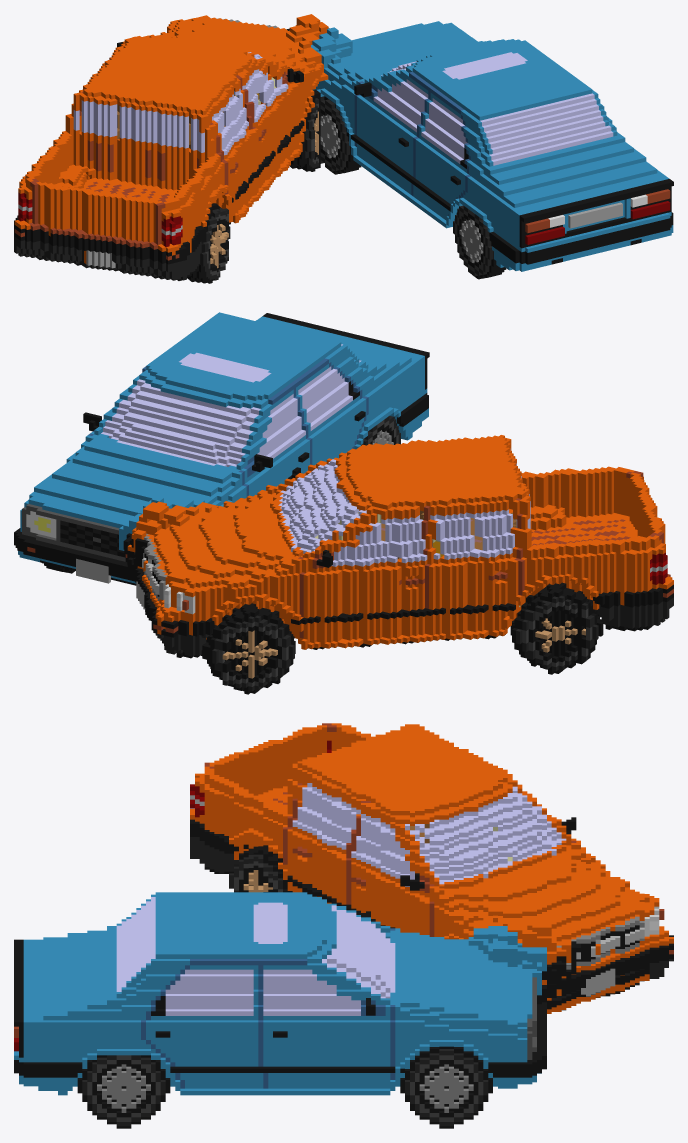
3 renders of one model, top to bottom at view 1: azimuth 30°, elevation 25°; view 2: azimuth 150°, elevation 25°; view 3: azimuth 270°, elevation 25°, orthographic. The views are drawn at different scales.
Visible parts, largest first — view 1: VOX; view 2: VOX; view 3: VOX.
Boxes of the visible parts, left/top/right/bottom form: VOX: left=14, top=14, right=673, bottom=283; VOX: left=14, top=312, right=673, bottom=694; VOX: left=14, top=723, right=673, bottom=1128.
Size of the model in its own units: 0.14 by 0.04 by 0.135.
